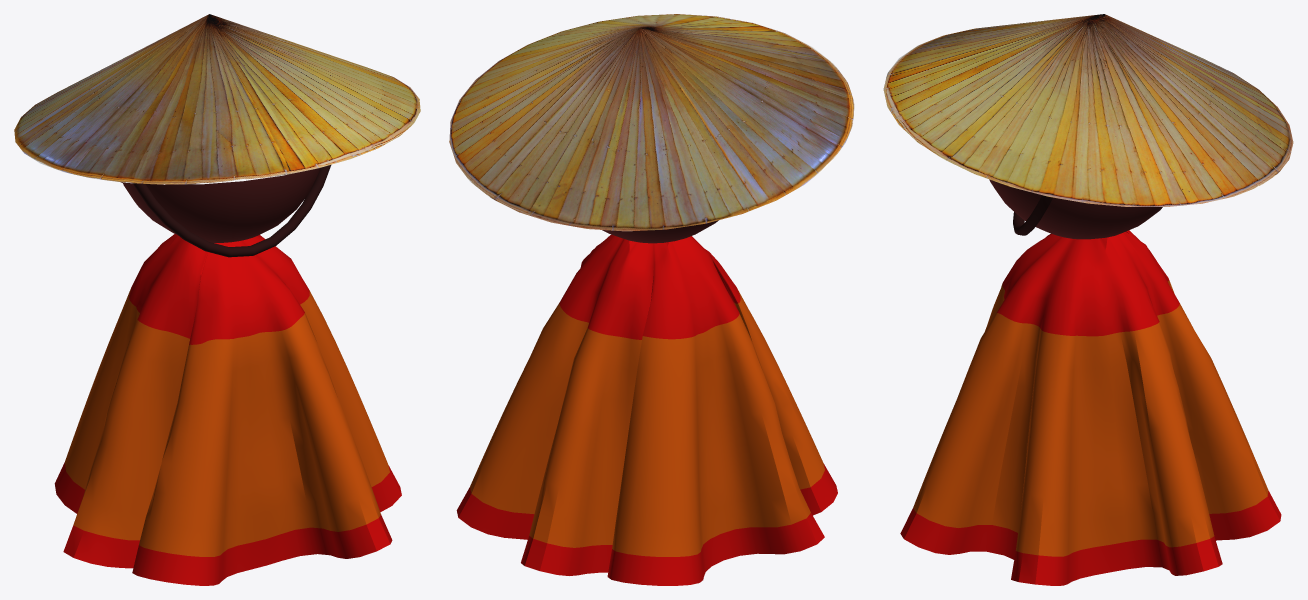
The model's file is Character.fbx.
The picture shows the model from 3 angles, left to right: view 1: azimuth 30°, elevation 25°; view 2: azimuth 150°, elevation 25°; view 3: azimuth 270°, elevation 25°; orthographic projection.
Parts seen in each view (by area): view 1: Cloth, Hat, Head, Sweep; view 2: Cloth, Hat, Head; view 3: Cloth, Hat, Head, Sweep.
Boxes of the visible parts, left/top/right/bottom form: Cloth: left=54, top=234, right=401, bottom=585; Hat: left=14, top=14, right=420, bottom=184; Head: left=123, top=168, right=320, bottom=242; Sweep: left=133, top=165, right=331, bottom=257; Cloth: left=456, top=234, right=837, bottom=585; Hat: left=449, top=14, right=854, bottom=231; Head: left=602, top=220, right=718, bottom=243; Cloth: left=900, top=230, right=1281, bottom=585; Hat: left=883, top=14, right=1293, bottom=206; Head: left=989, top=179, right=1162, bottom=239; Sweep: left=1013, top=195, right=1052, bottom=235.
Size of the model in its own units: 82.81 by 115 by 81.98.
5 materials, 1 textured.
